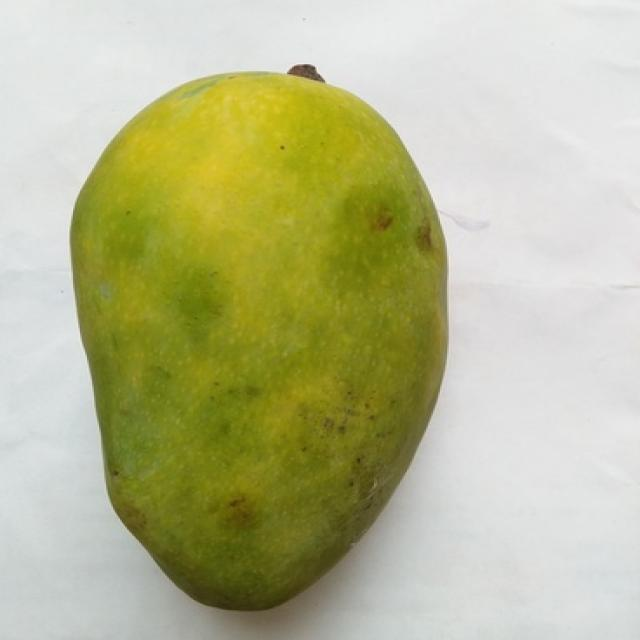Mango: (71, 73, 445, 610)
